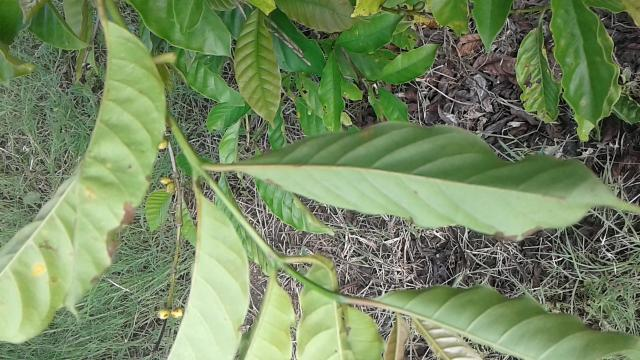rust_level_1: (236, 114, 640, 246)
